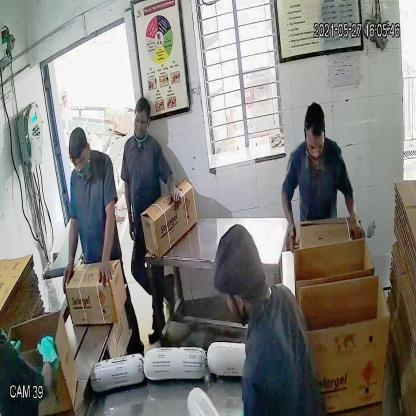no_goggles: (68, 149, 90, 173), (304, 133, 326, 155), (131, 115, 150, 132)
